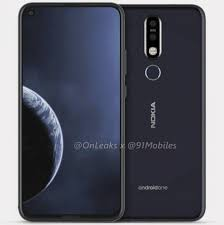nokia: (13, 1, 126, 221), (113, 1, 207, 222)
